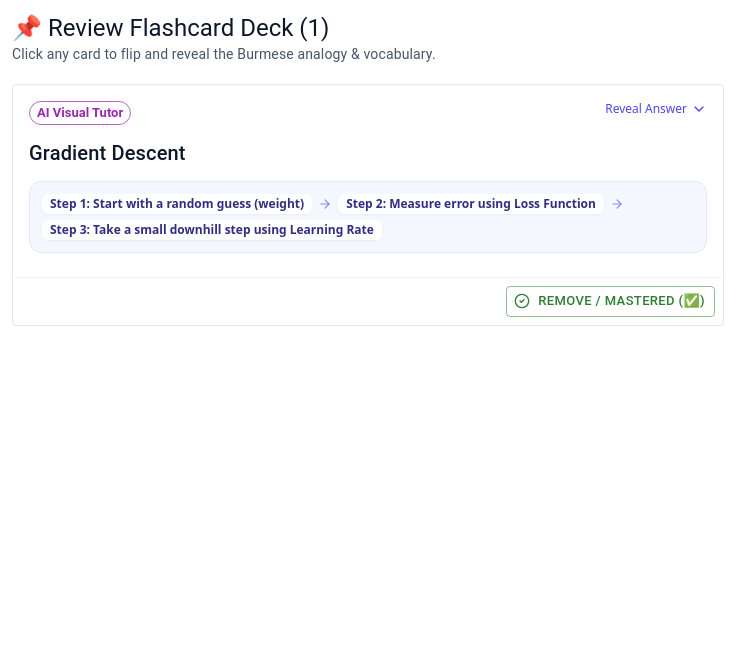
Test: ReviewDeck component and Flashcard integration › renders flashcards, reveals Burmese analogy and vocabulary on click, and removes mastered cards
Later steps or results of the test are not shown.
Check: the text "Step 1: Start with a random guess (weight)" is shown, box [42, 194, 312, 214]
# Click card to reveal
Click the heading "Gradient Descent" at (107, 153), box [29, 141, 186, 165]
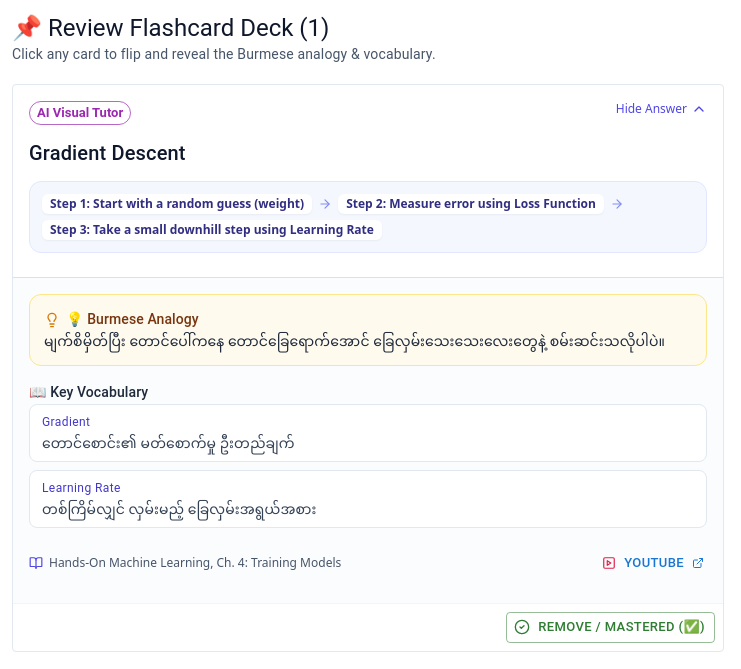
Check: the text "မျက်စိမှိတ်ပြီး တောင်ပေါ်ကနေ တောင်ခြေရောက်အောင် ခြေလှမ်းသေးသေးလေးတွေနဲ့ စမ်းဆင်းသလိုပါပဲ။" is shown, box [44, 333, 665, 349]
Check: the text "Gradient" is shown, box [42, 415, 90, 429]
Check: the text "တောင်စောင်း၏ မတ်စောက်မှု ဦးတည်ချက်" is shown, box [42, 435, 295, 451]
